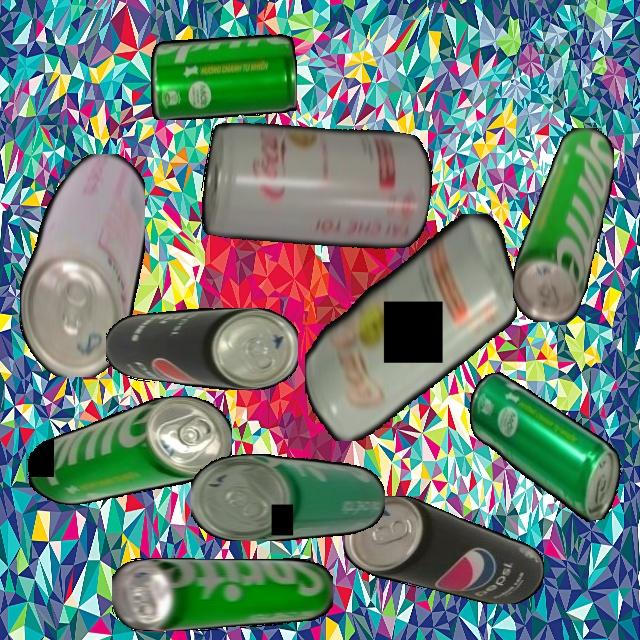debris: (304, 213, 517, 441), (194, 101, 440, 271), (463, 355, 629, 538), (19, 153, 145, 377), (26, 396, 232, 505), (344, 495, 544, 604), (512, 127, 614, 322), (191, 453, 385, 541), (112, 557, 333, 631), (105, 308, 298, 390), (150, 33, 297, 120)
